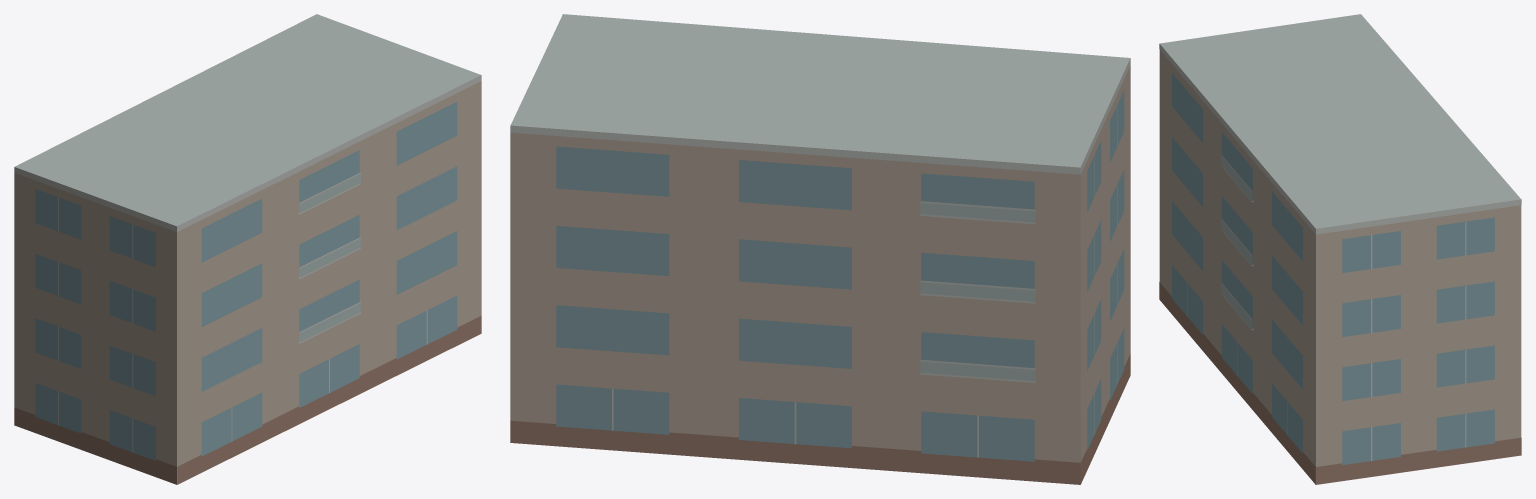
The model's file is survey-upis-32802009.glb.
The picture shows the model from 3 angles, left to right: view 1: azimuth 30°, elevation 25°; view 2: azimuth 150°, elevation 25°; view 3: azimuth 270°, elevation 25°; orthographic projection. The views are drawn at different scales.
Visible parts, largest first — view 1: survey-upis-32802009.tmp; view 2: survey-upis-32802009.tmp; view 3: survey-upis-32802009.tmp.
Boxes of the visible parts, <box> form: survey-upis-32802009.tmp: <box>14,14,481,484</box>; survey-upis-32802009.tmp: <box>510,14,1130,484</box>; survey-upis-32802009.tmp: <box>1159,14,1521,484</box>.
Size of the model in its own units: 19.62 by 10.9 by 13.97.
